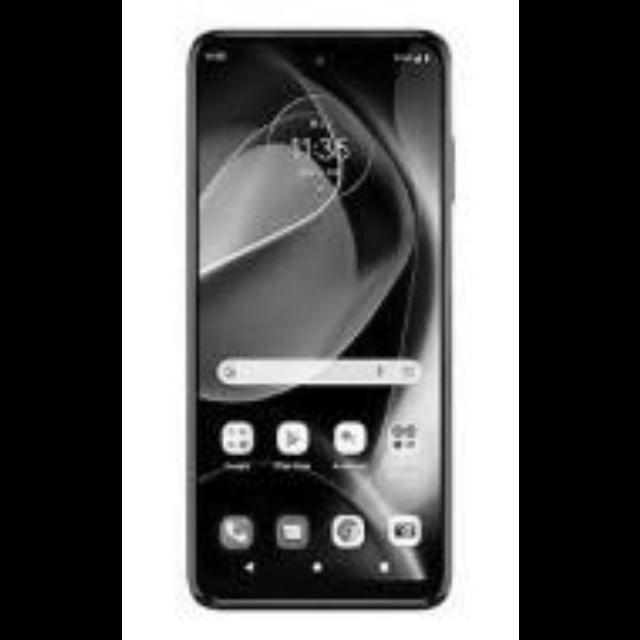fake: (182, 18, 444, 616)
